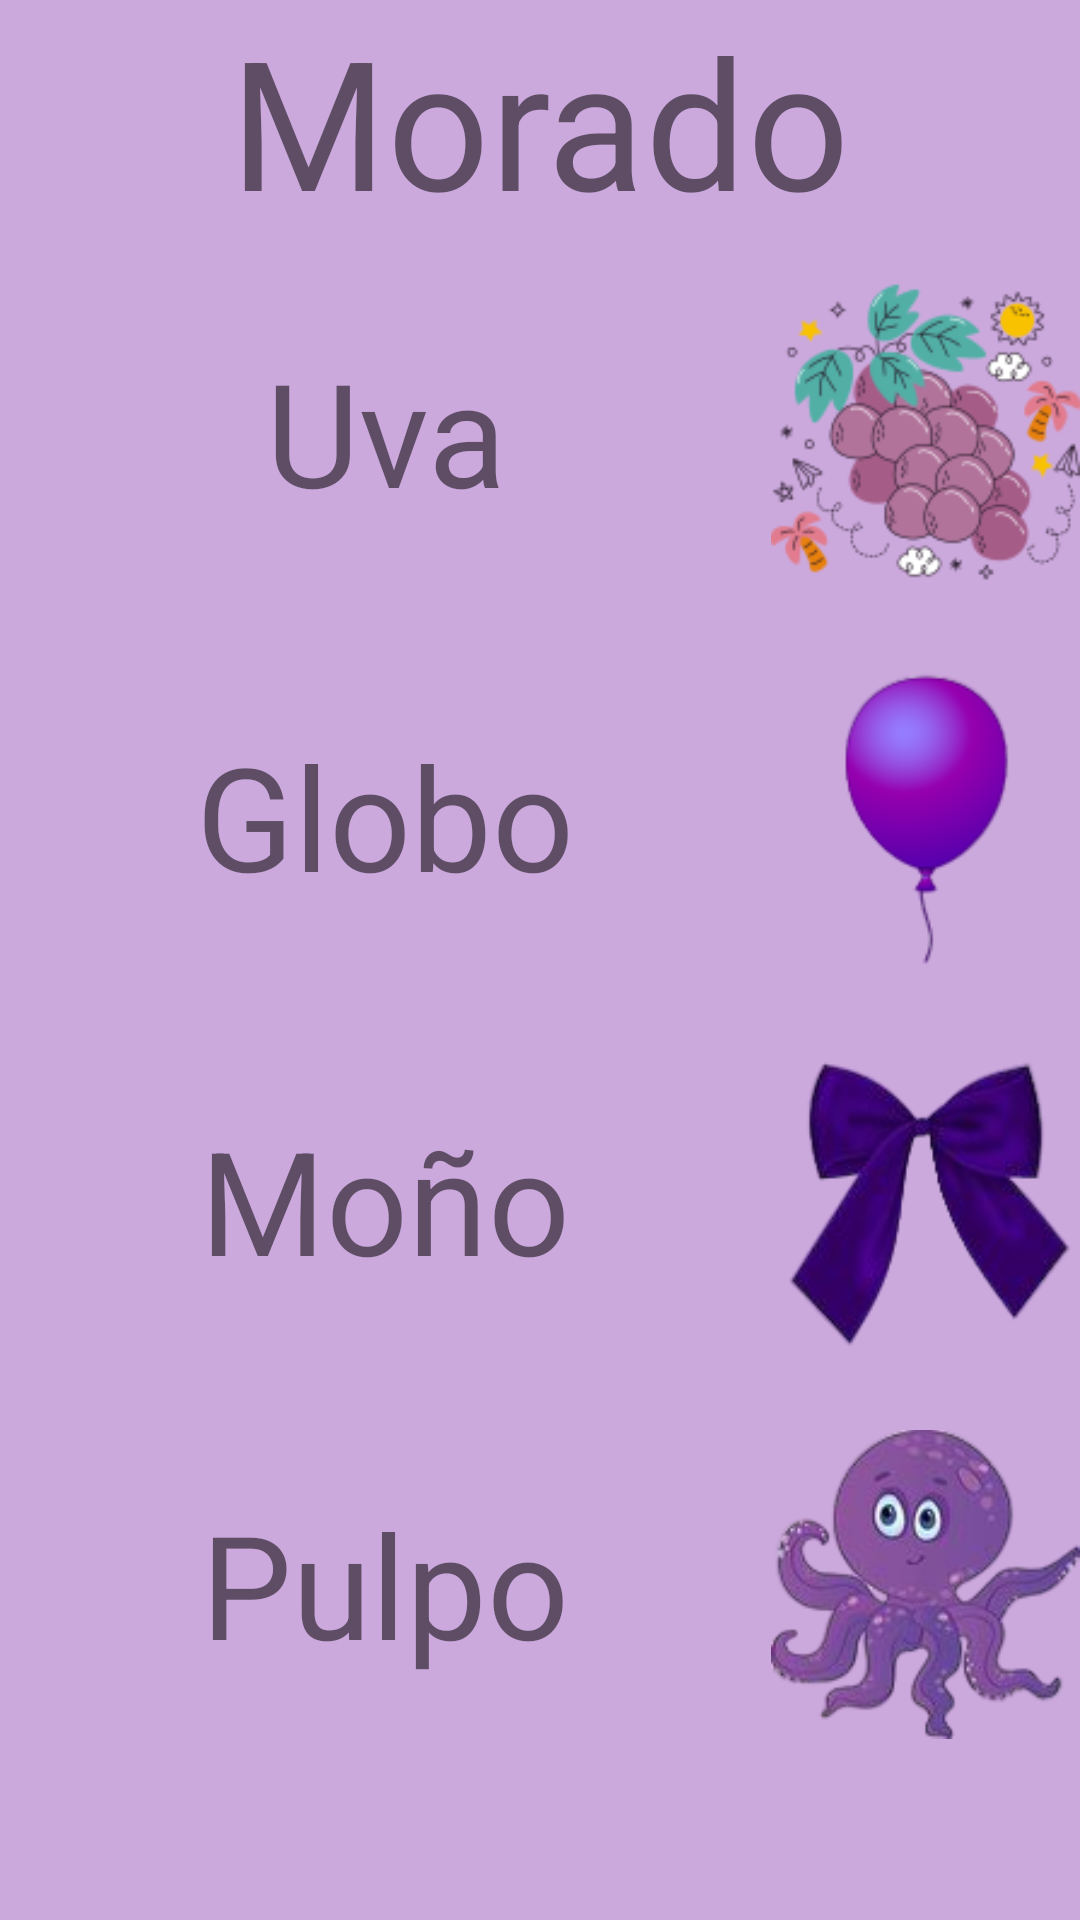

Screen size 1080px x 1920px. Icon name, then its box in pixels as (x1, y1, x2, y2):
mono: (790, 1064, 1069, 1345)
